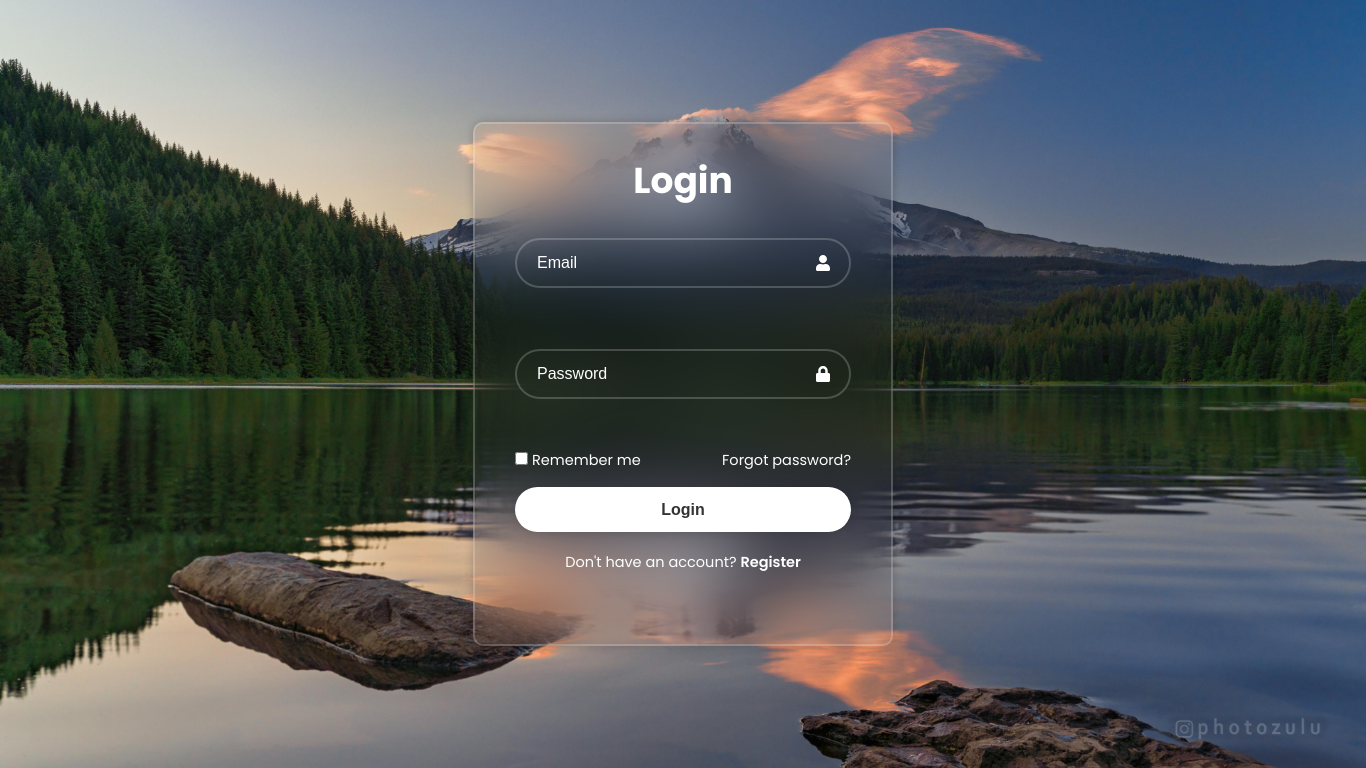
Test case: LoginForm › Shows an error when the passsword field is empty and Login button is clicked
Type "test@gmail.com" into the field with test id "email-input" at (683, 263), box [515,238,851,288]
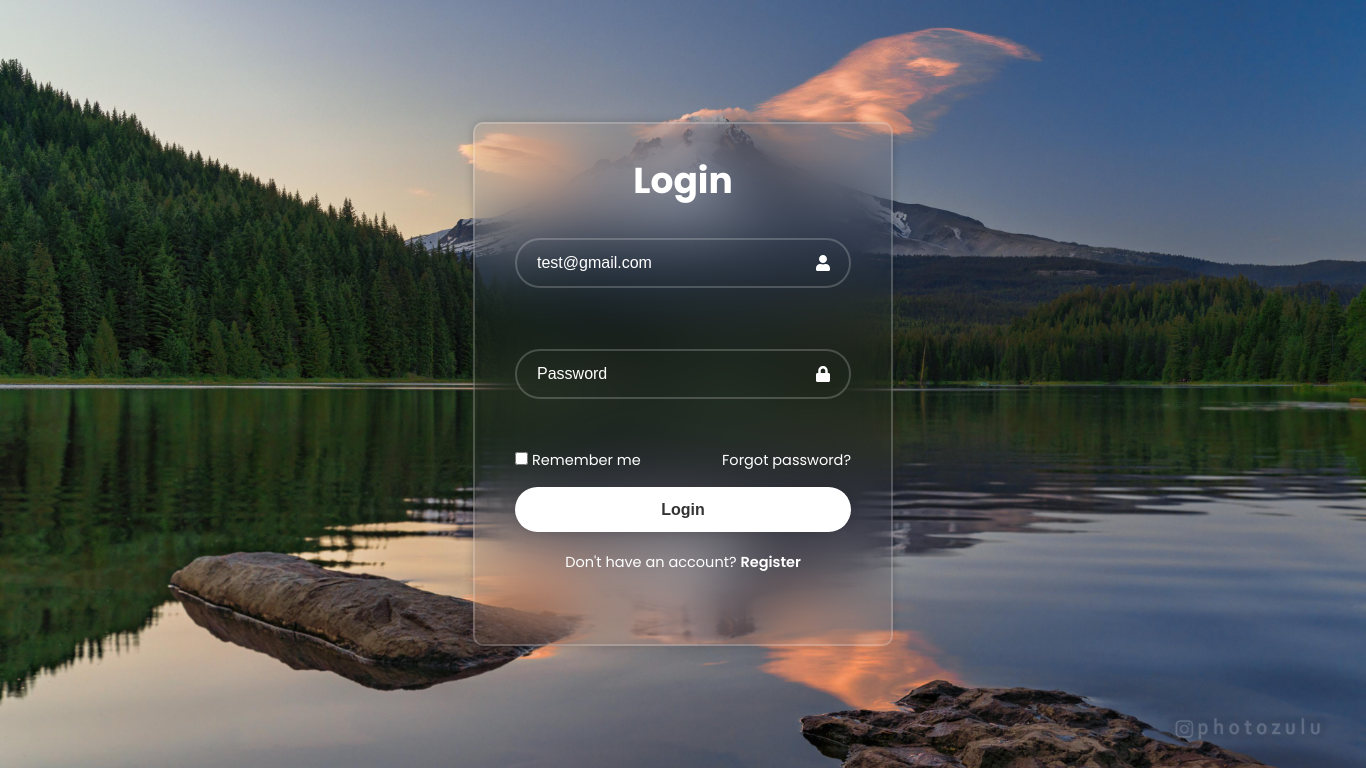
Click the button with test id "login-button" at (683, 510), box [515,487,851,532]
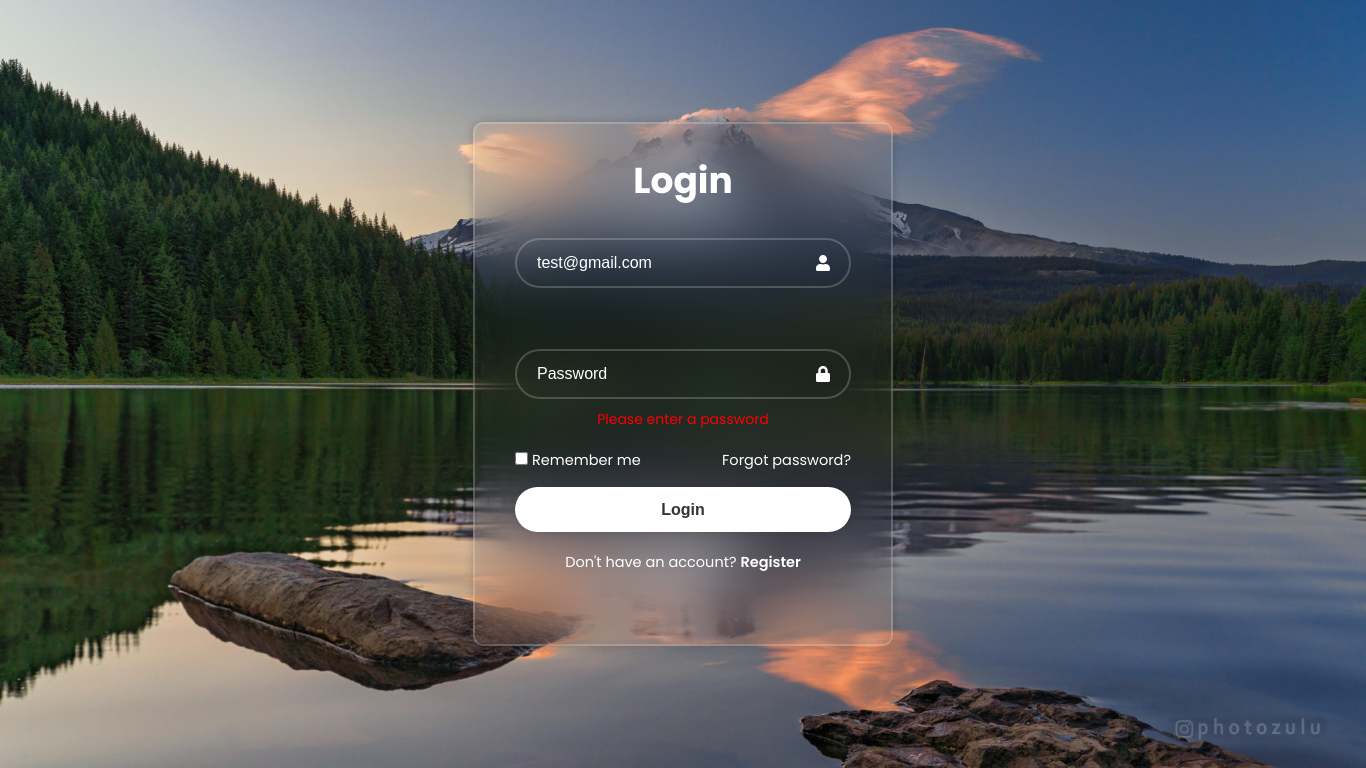
Result: the element with test id "login-form" shows "Please enter a password" at [597,409,769,429]
